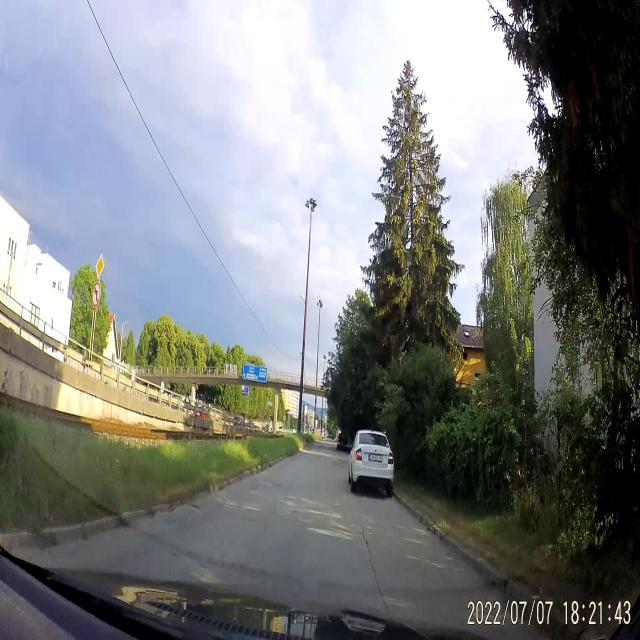Pothole: (191, 502, 201, 510)
